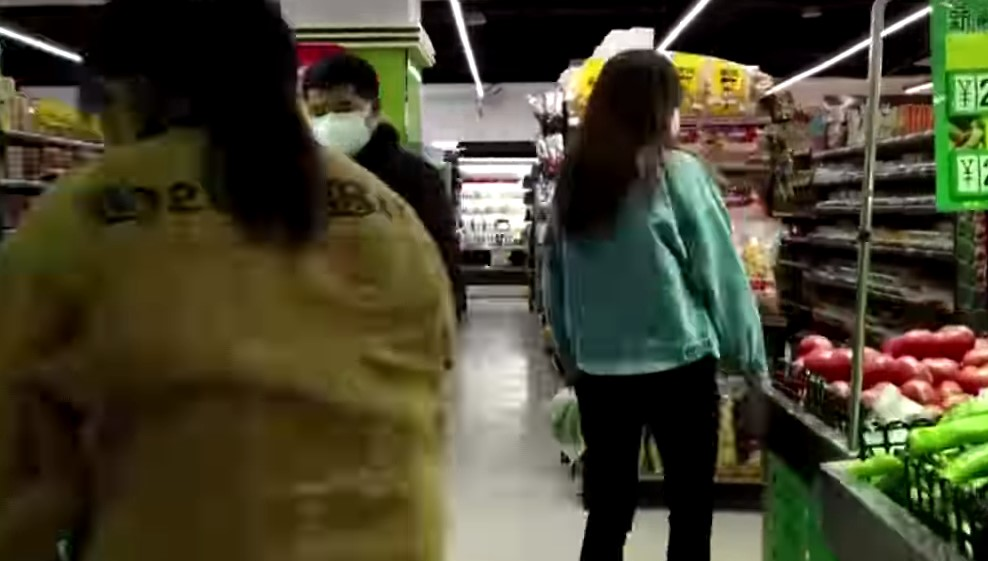face_with_mask: (298, 48, 388, 164)
